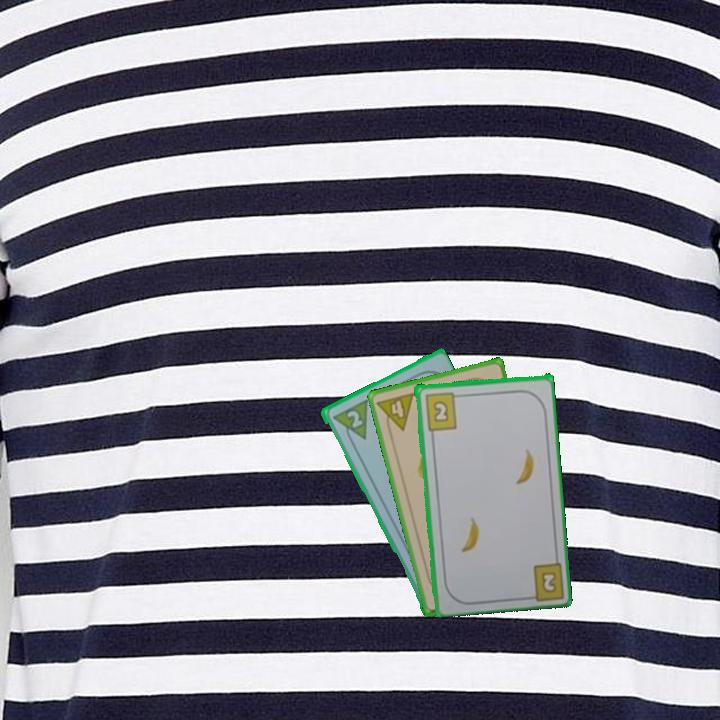2b: (421, 389, 463, 433), (538, 568, 559, 593)
2p: (343, 406, 365, 431)
4p: (373, 389, 417, 437)
